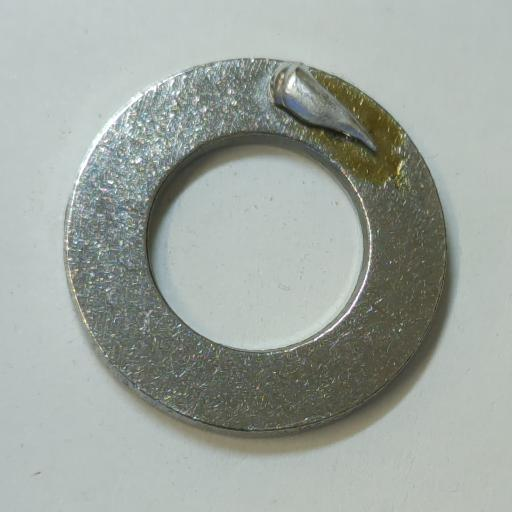excess_material: (270, 62, 377, 152)
